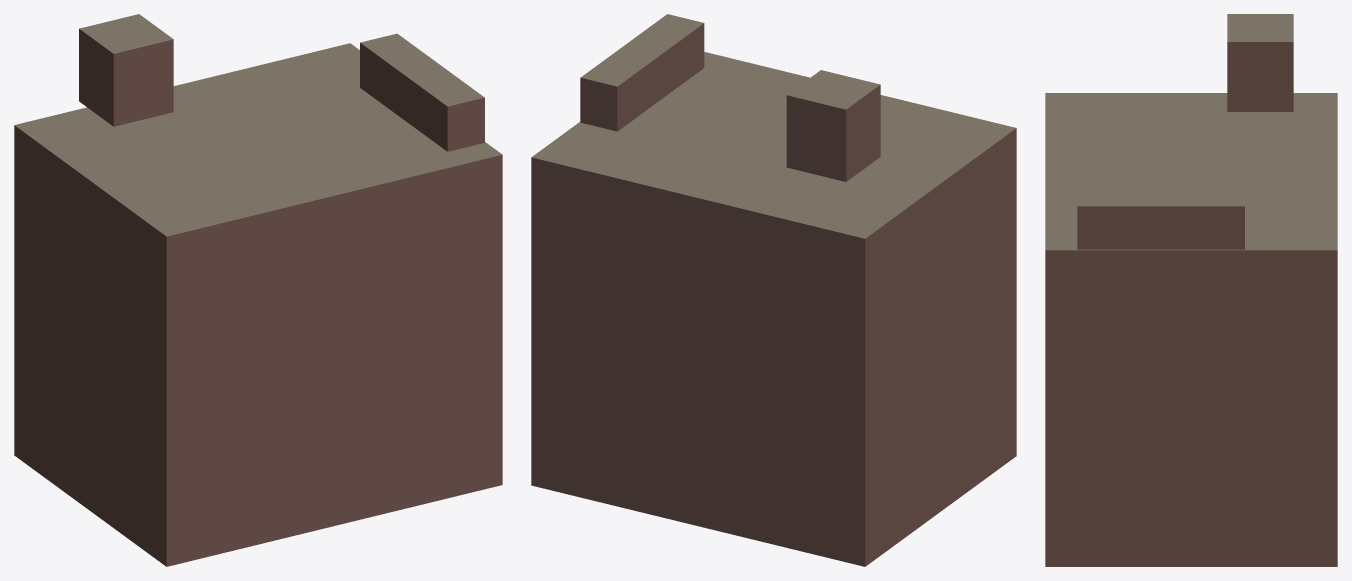
The model's file is ns-brick-walkup.far-facades-v3.lod2.glb.
3 views of the same model, side by side, from view 1: azimuth 30°, elevation 25°; view 2: azimuth 150°, elevation 25°; view 3: azimuth 270°, elevation 25° (orthographic). The views are drawn at different scales.
Parts seen in each view (by area): view 1: ns-brick-walkup; view 2: ns-brick-walkup; view 3: ns-brick-walkup.
Part boxes in pixels (x1,y1,x2,y2): ns-brick-walkup: [14, 14, 502, 566]; ns-brick-walkup: [531, 14, 1016, 566]; ns-brick-walkup: [1045, 14, 1337, 566].
Bounding box in the file's own units: 14 × 17.25 × 11.
